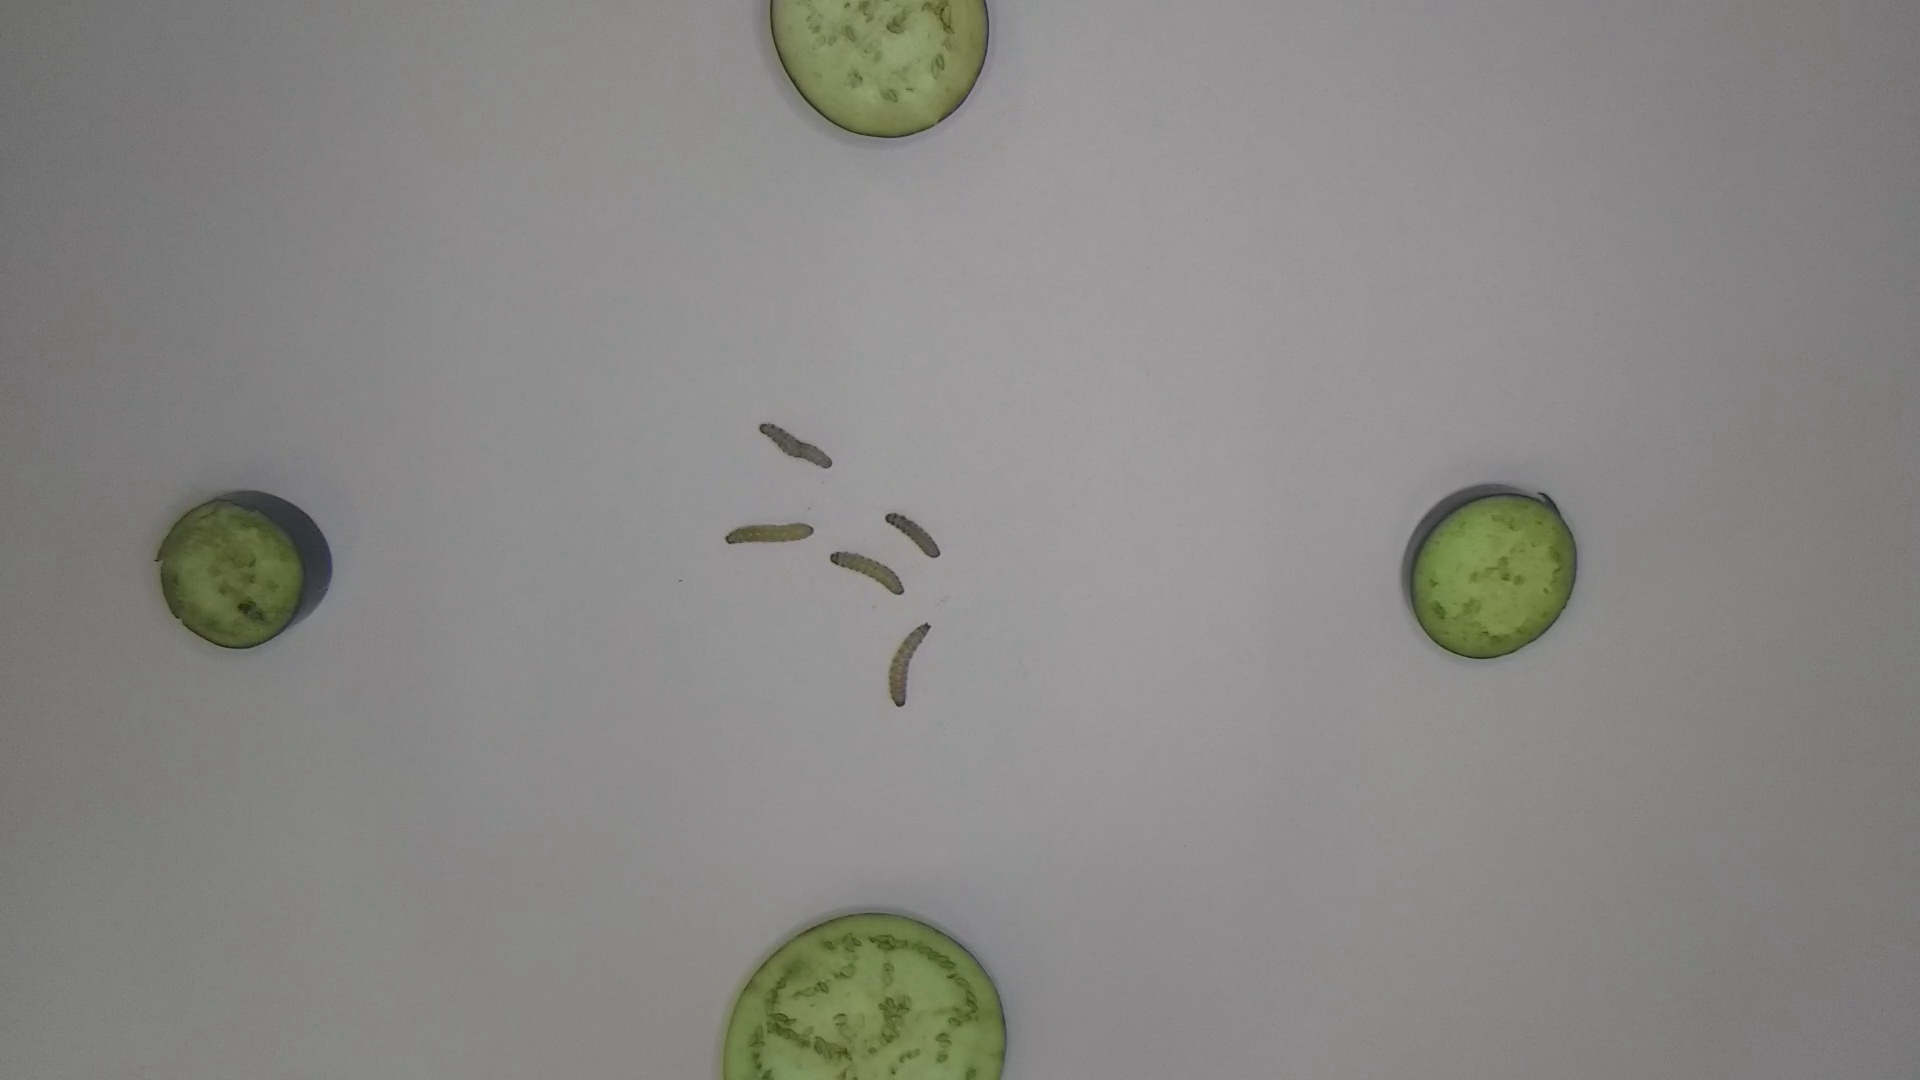efsb: (884, 617, 936, 712), (754, 421, 839, 471), (823, 550, 906, 595), (723, 516, 818, 550), (880, 514, 945, 562)
eggplant: (712, 906, 1011, 1080), (1394, 480, 1586, 670), (767, 1, 998, 145), (152, 483, 343, 655)
